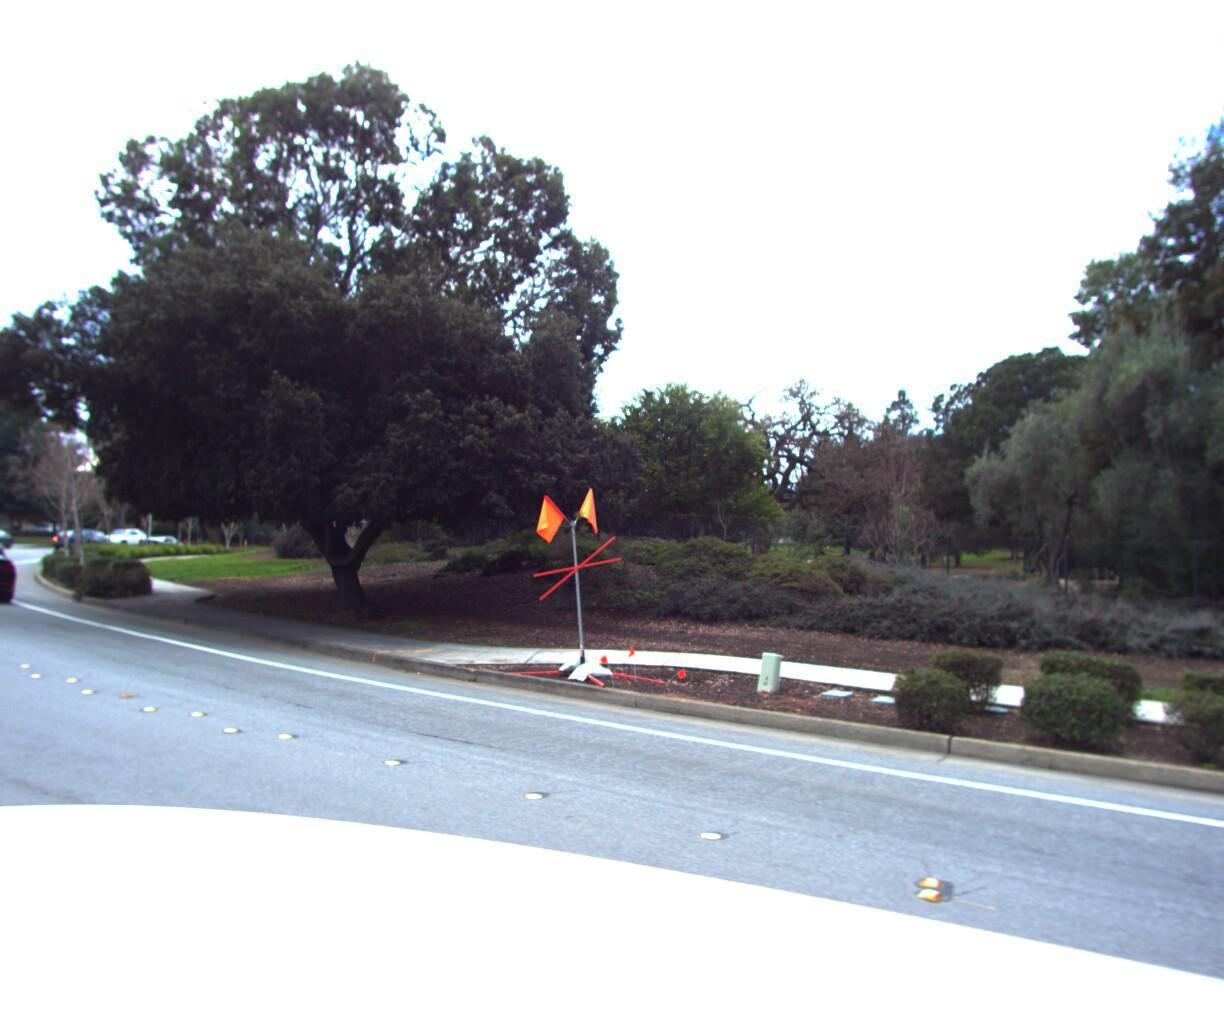car: (0, 533, 20, 606), (99, 524, 152, 548), (0, 530, 19, 567)
